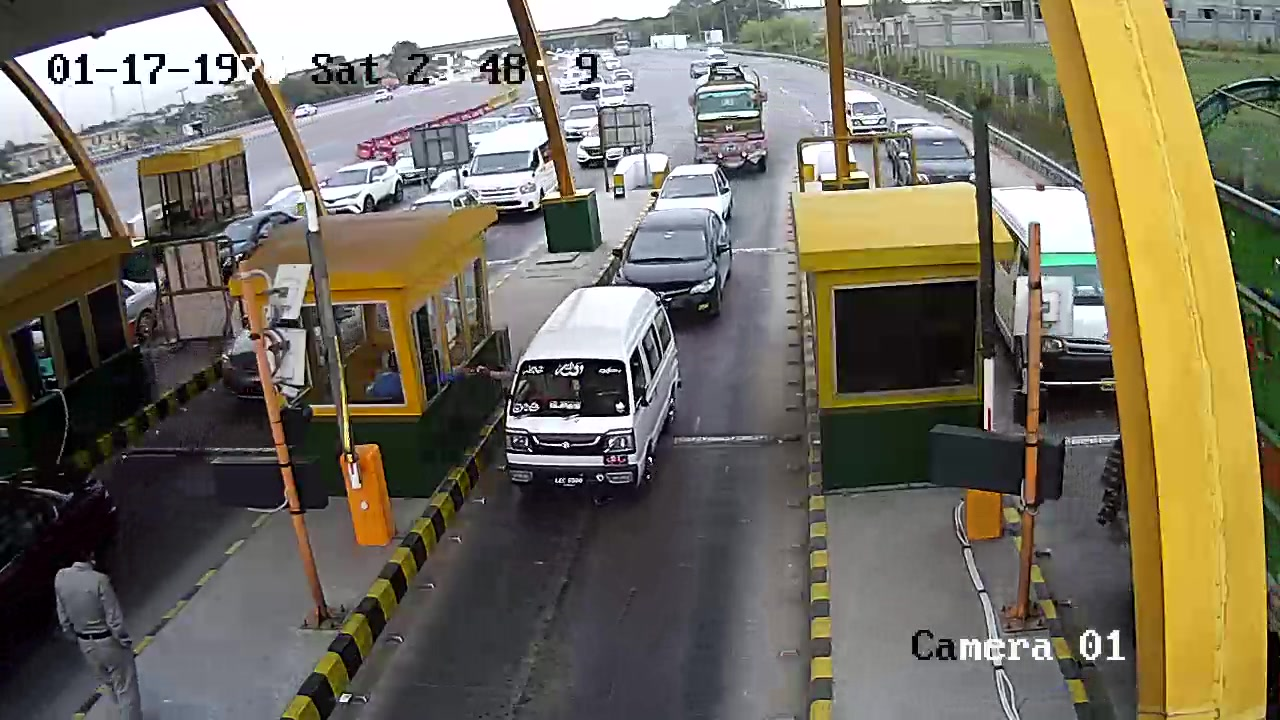F1: (500, 275, 694, 515)
